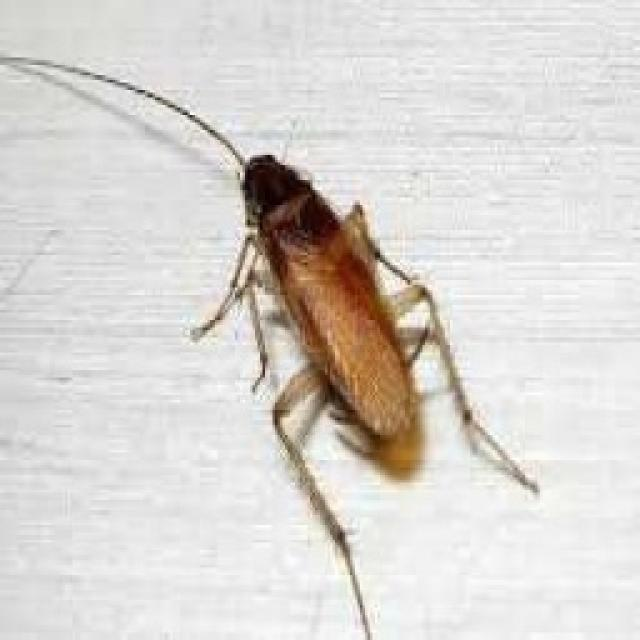cockroach: (239, 150, 424, 449)
